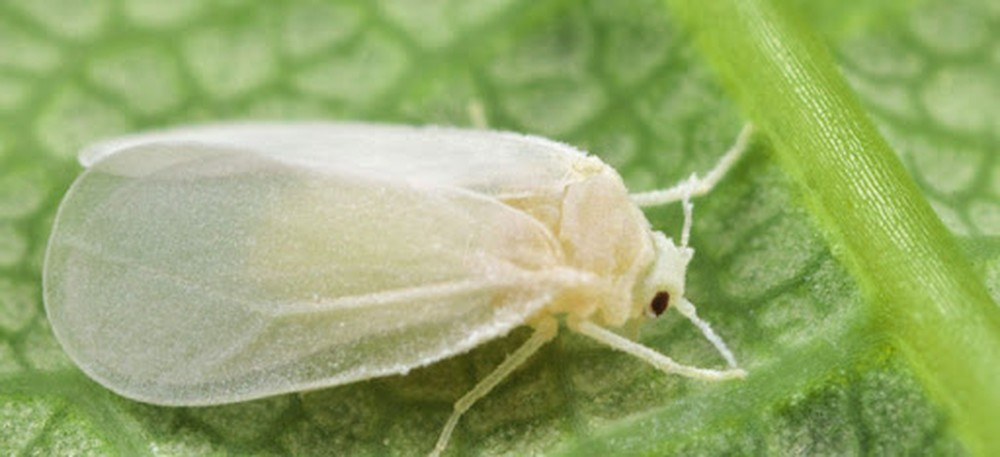Mosca Blanca: (50, 86, 785, 431)
